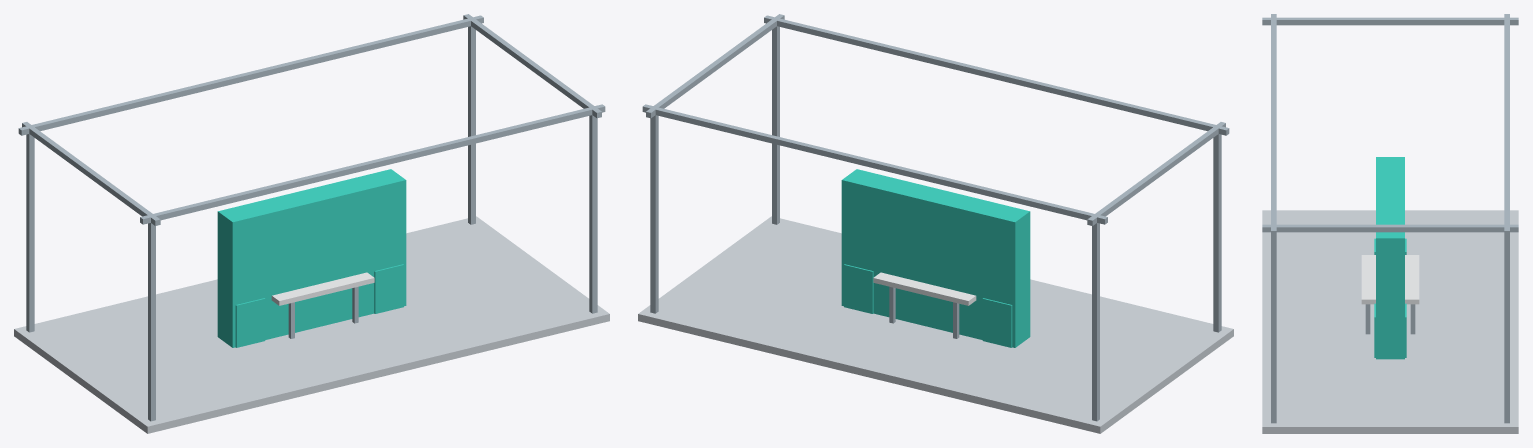
3 views of the same model, side by side, from view 1: azimuth 30°, elevation 25°; view 2: azimuth 150°, elevation 25°; view 3: azimuth 270°, elevation 25° (orthographic). The views are drawn at different scales.
Parts seen in each view (by area): view 1: Exhibition Booth Concept; view 2: Exhibition Booth Concept; view 3: Exhibition Booth Concept.
Boxes of the visible parts, x1=… form: Exhibition Booth Concept: x1=14, y1=14, x2=609, y2=433; Exhibition Booth Concept: x1=638, y1=14, x2=1233, y2=433; Exhibition Booth Concept: x1=1262, y1=14, x2=1518, y2=433.
Size of the model in its own units: 8 by 3.49 by 4.
